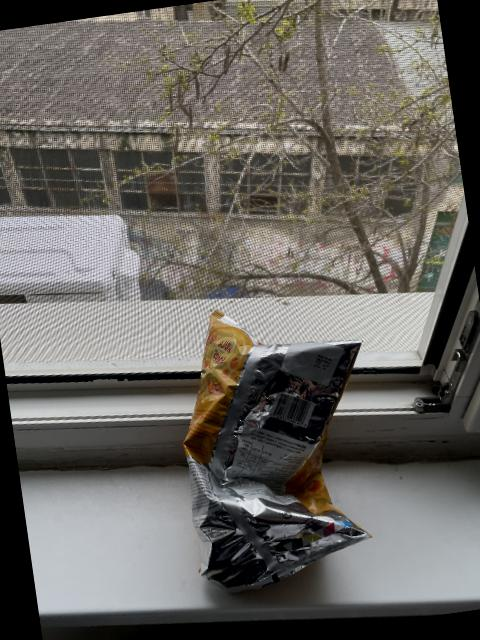Chio Hula Hoops Cheese 70g: (160, 300, 393, 595)
